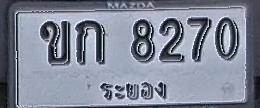0: (215, 16, 239, 60)
2: (159, 18, 184, 62)
7: (187, 16, 211, 62)
8: (132, 18, 154, 62)
A01: (75, 20, 106, 64)
A02: (40, 20, 70, 64)
RYG: (97, 76, 170, 102)
